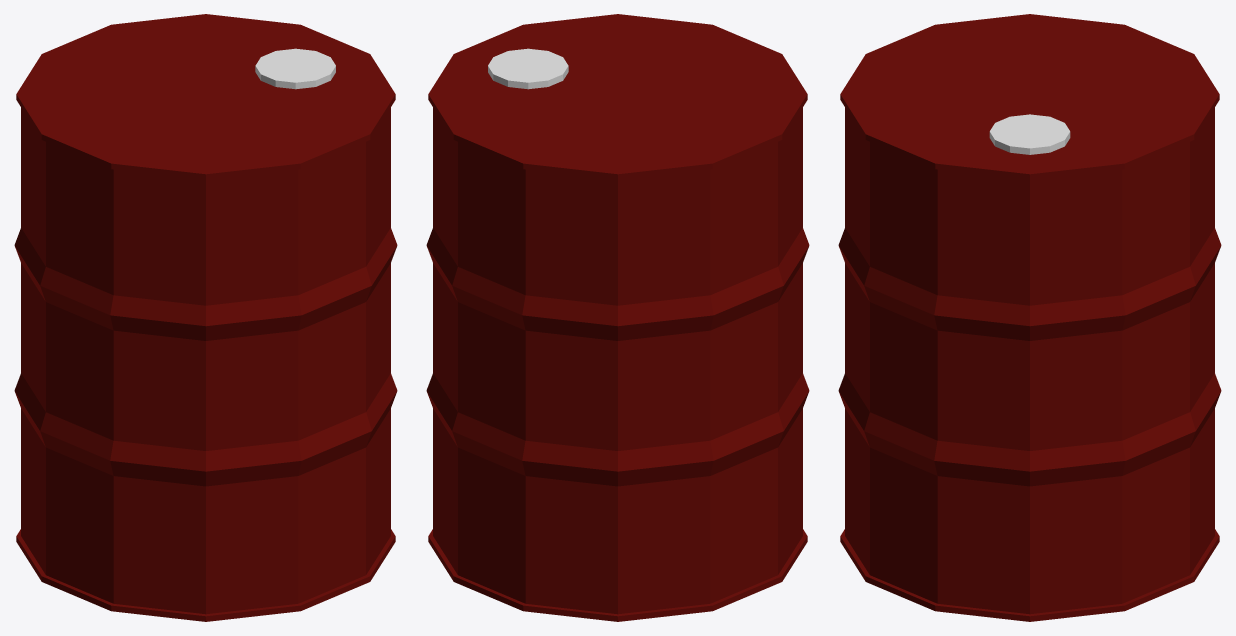
Rendered from Drum.fbx.
The picture shows the model from 3 angles, left to right: view 1: azimuth 30°, elevation 25°; view 2: azimuth 150°, elevation 25°; view 3: azimuth 270°, elevation 25°; orthographic projection.
Parts seen in each view (by area): view 1: Cylinder.002; view 2: Cylinder.002; view 3: Cylinder.002.
Part boxes in pixels (x1,y1,x2,y2): Cylinder.002: (14, 14, 397, 621); Cylinder.002: (426, 14, 809, 621); Cylinder.002: (838, 14, 1221, 621).
Size of the model in its own units: 159 by 208 by 159.
